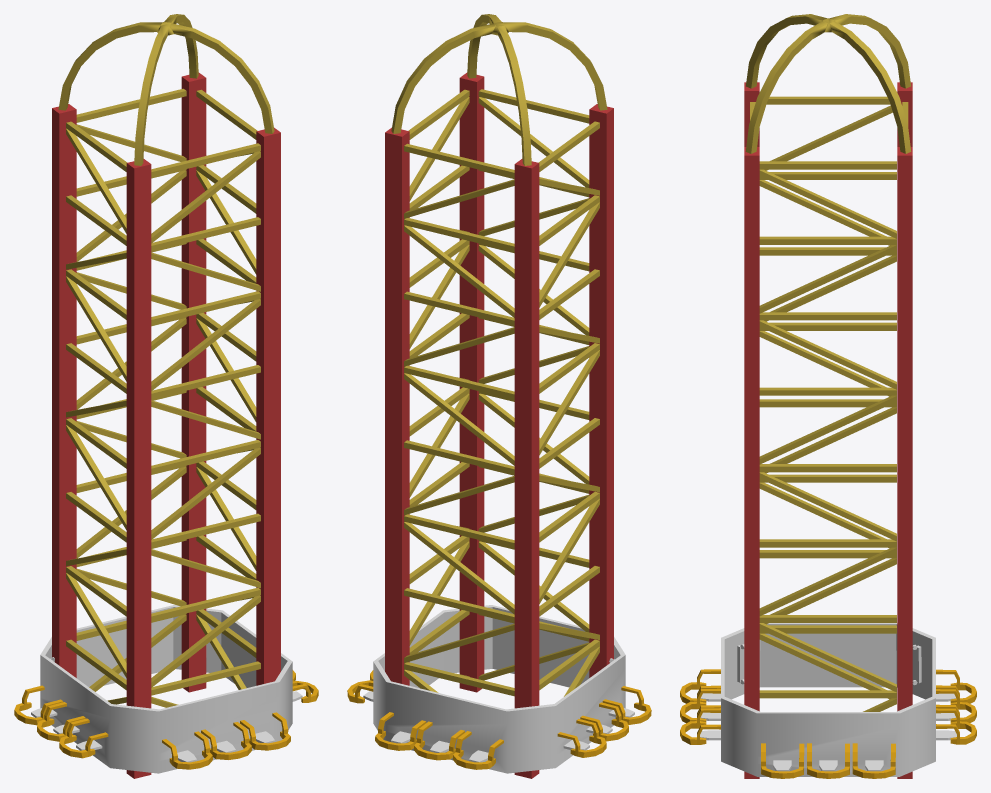
The model's file is Kilawea.fbx.
3 views of the same model, side by side, from view 1: azimuth 30°, elevation 25°; view 2: azimuth 150°, elevation 25°; view 3: azimuth 270°, elevation 25° (orthographic). The views are drawn at different scales.
Parts seen in each view (by area): view 1: Soporte, Carcasa, Abrazadera003, Abrazadera006, Abrazadera007, Abrazadera008, Abrazadera005, Abrazadera004; view 2: Soporte, Carcasa, Abrazadera005, Abrazadera002, Abrazadera001, Abrazadera, Abrazadera003, Abrazadera004; view 3: Soporte, Carcasa, Abrazadera008, Abrazadera, Abrazadera009, Abrazadera011, Abrazadera010, Abrazadera002, Abrazadera001, Abrazadera007, Abrazadera006.
Boxes of the visible parts, x1,y1,x2,y2 form: Soporte: [52, 14, 280, 778]; Carcasa: [31, 605, 302, 773]; Abrazadera003: [59, 718, 108, 758]; Abrazadera006: [162, 731, 212, 769]; Abrazadera007: [201, 722, 251, 759]; Abrazadera008: [240, 712, 290, 750]; Abrazadera005: [14, 685, 63, 725]; Abrazadera004: [37, 702, 85, 741]; Soporte: [385, 14, 613, 778]; Carcasa: [363, 605, 634, 773]; Abrazadera005: [557, 719, 606, 757]; Abrazadera002: [452, 731, 503, 769]; Abrazadera001: [414, 721, 464, 760]; Abrazadera: [375, 712, 426, 750]; Abrazadera003: [602, 686, 651, 724]; Abrazadera004: [580, 702, 628, 741]; Soporte: [744, 14, 912, 778]; Carcasa: [697, 623, 956, 776]; Abrazadera008: [680, 708, 720, 744]; Abrazadera: [936, 708, 976, 744]; Abrazadera009: [852, 743, 895, 778]; Abrazadera011: [761, 743, 804, 778]; Abrazadera010: [807, 743, 849, 778]; Abrazadera002: [936, 669, 976, 703]; Abrazadera001: [936, 689, 976, 722]; Abrazadera007: [680, 688, 720, 723]; Abrazadera006: [680, 669, 720, 703].
Size of the model in its own units: 229 by 615 by 229.
Materials: 2 (1 with a texture image).
